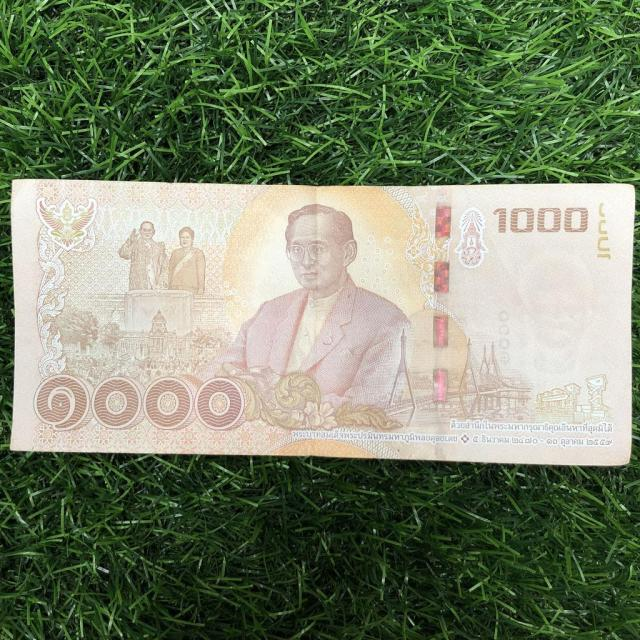THAI1000: (11, 179, 634, 466)
